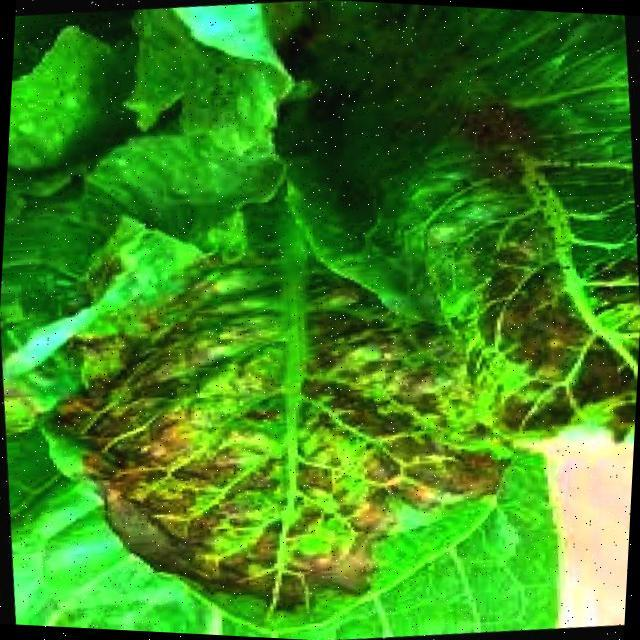Lettuce Mosaic Virus: (425, 73, 640, 446), (91, 347, 391, 590)
